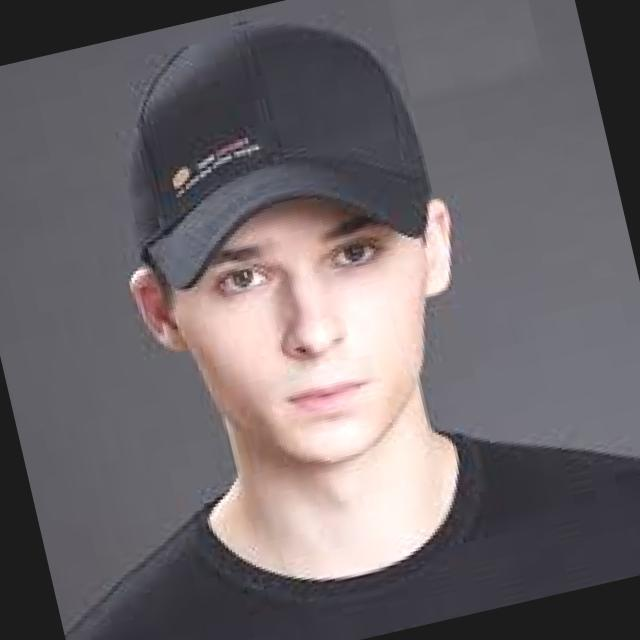cap: (77, 0, 461, 317)
